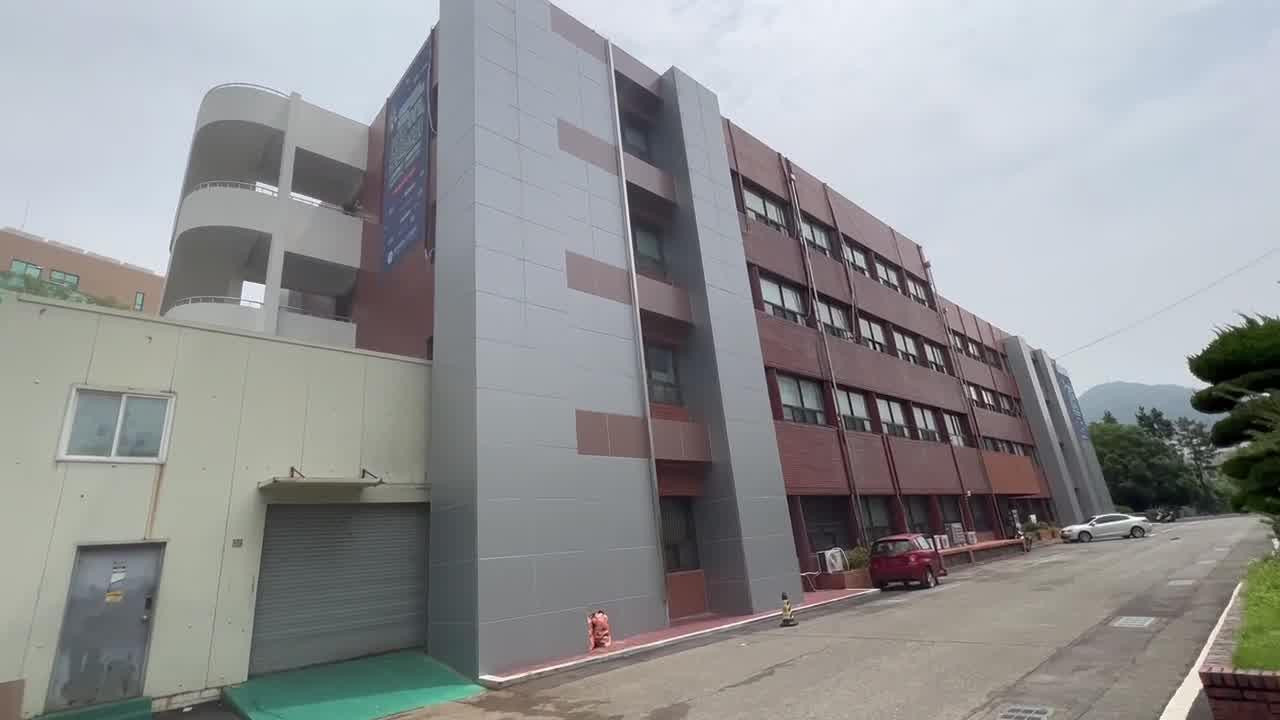building: (519, 218, 936, 492)
